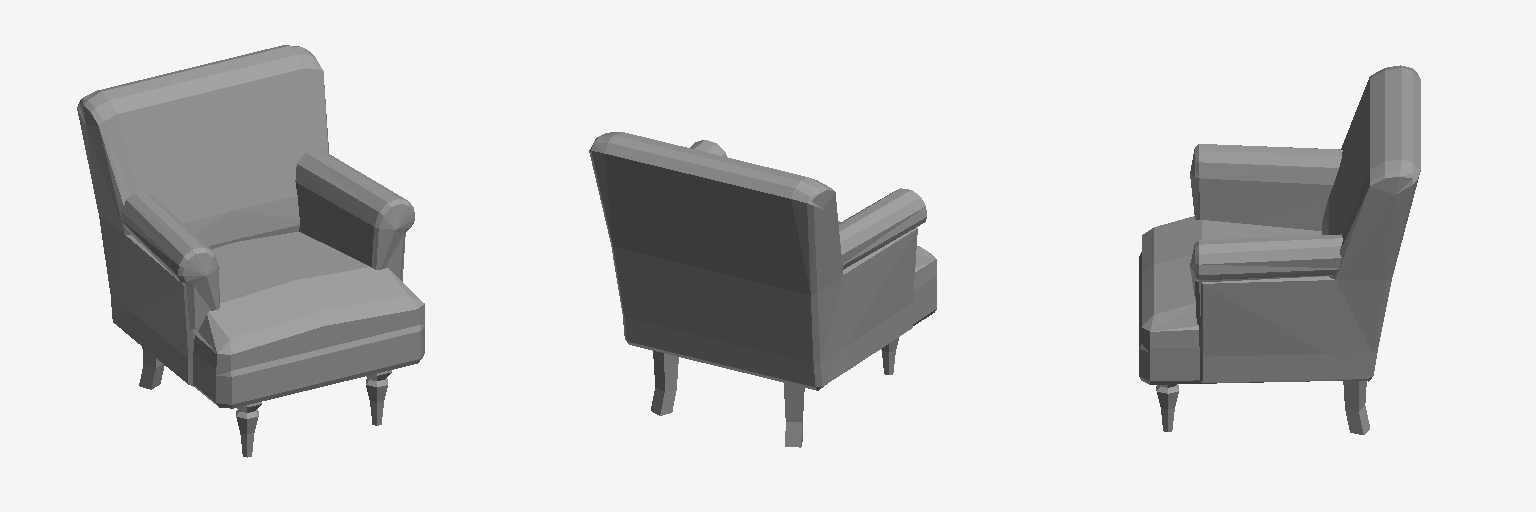
Rendered from Leather_Chair.obj.
3 views of the same model, side by side, from view 1: azimuth 30°, elevation 25°; view 2: azimuth 150°, elevation 25°; view 3: azimuth 270°, elevation 25° (orthographic).
Size of the model in its own units: 1.48 by 1.69 by 1.52.